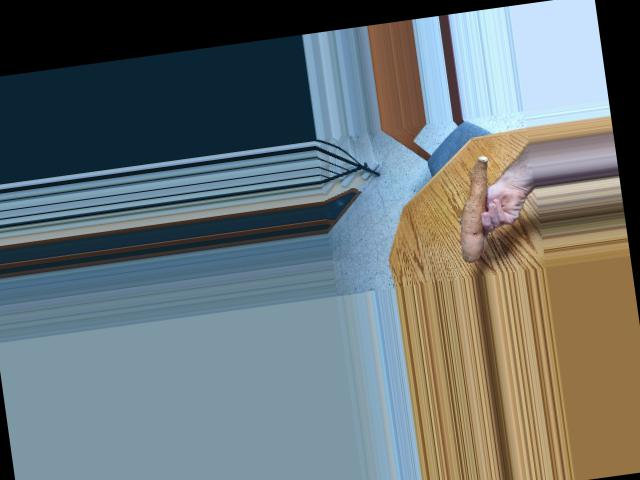sweet_potato: (446, 153, 505, 260)
